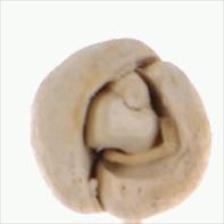L3: (76, 57, 173, 176)
L4: (31, 38, 211, 218)
